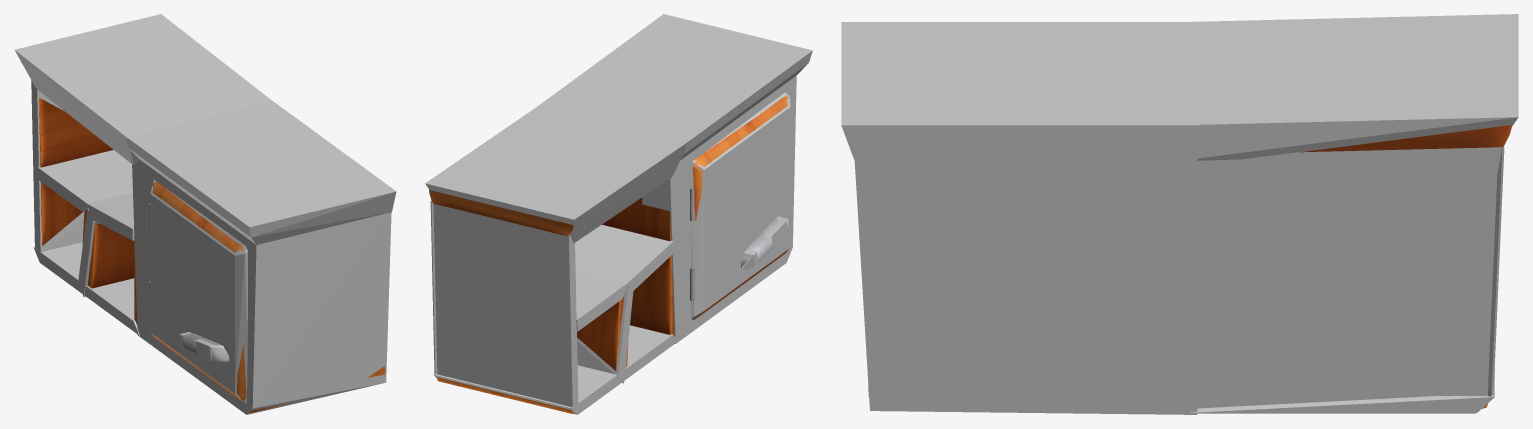
Rendered from SM_KitchenFurniture01_2.fbx.
3 views of the same model, side by side, from view 1: azimuth 30°, elevation 25°; view 2: azimuth 150°, elevation 25°; view 3: azimuth 270°, elevation 25° (orthographic). The views are drawn at different scales.
Parts seen in each view (by area): view 1: SM_KitchenFurniture01_2_ConvexHulls, SM_KitchenFurniture01_2; view 2: SM_KitchenFurniture01_2_ConvexHulls, SM_KitchenFurniture01_2; view 3: SM_KitchenFurniture01_2_ConvexHulls, SM_KitchenFurniture01_2.
Boxes of the visible parts, x1,y1,x2,y2 form: SM_KitchenFurniture01_2_ConvexHulls: [14, 14, 396, 414]; SM_KitchenFurniture01_2: [21, 62, 385, 412]; SM_KitchenFurniture01_2_ConvexHulls: [425, 14, 812, 414]; SM_KitchenFurniture01_2: [429, 96, 788, 413]; SM_KitchenFurniture01_2_ConvexHulls: [841, 14, 1518, 414]; SM_KitchenFurniture01_2: [868, 125, 1512, 408].
Size of the model in its own units: 51.22 by 136 by 65.79.
2 materials, 1 textured.
